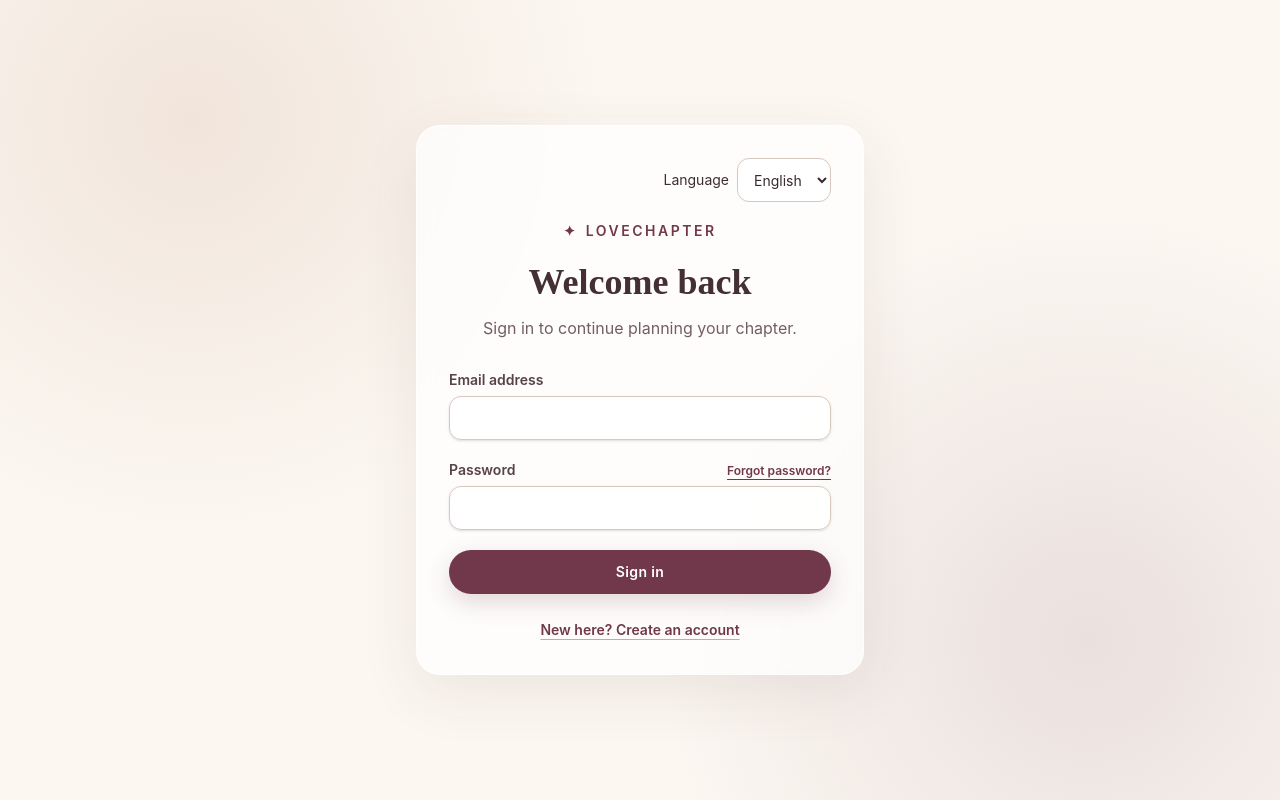
Test: SignInForm › renders stable invalid-credentials feedback
Step 1. Type "c@example.test" into the field labelled "Email address" → (640, 418), box 449,396 -> 831,440
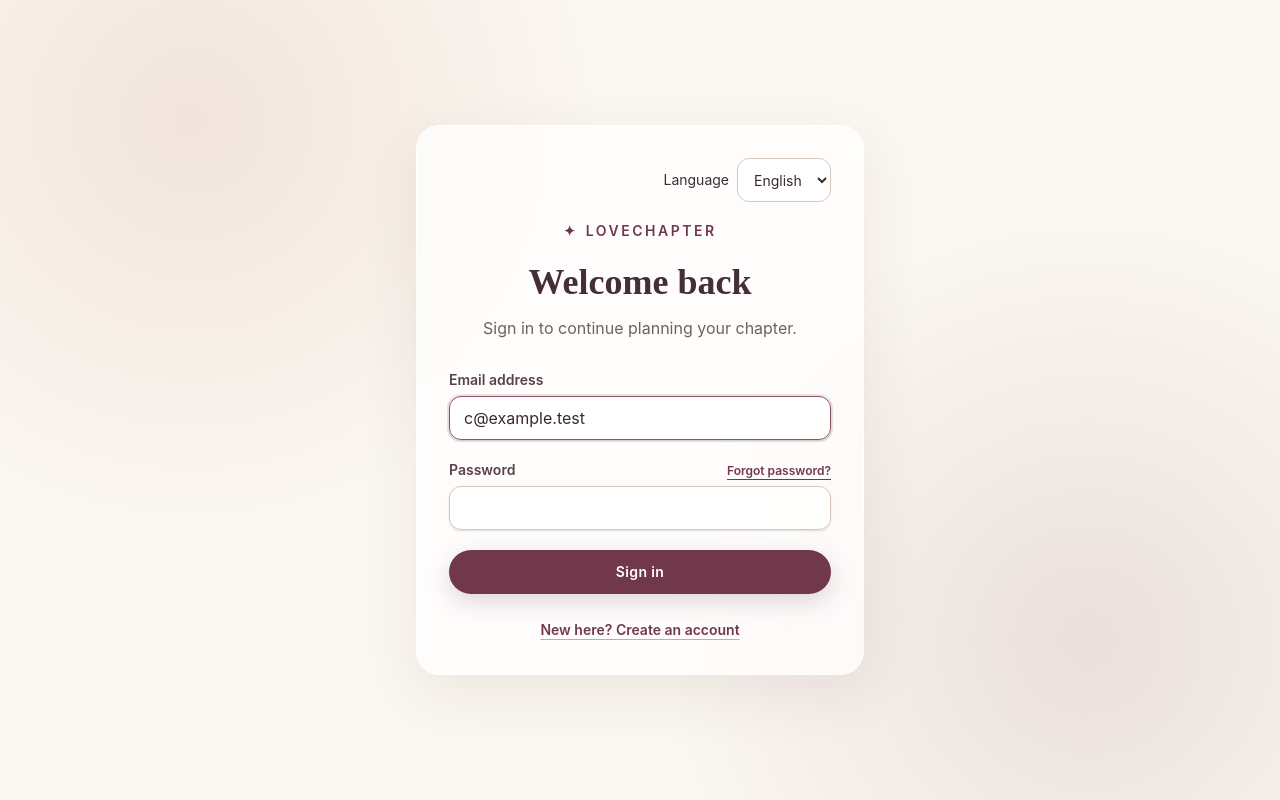
Step 2. Type "wrong password phrase" into the password field labelled "Password" → (640, 508), box 449,486 -> 831,530
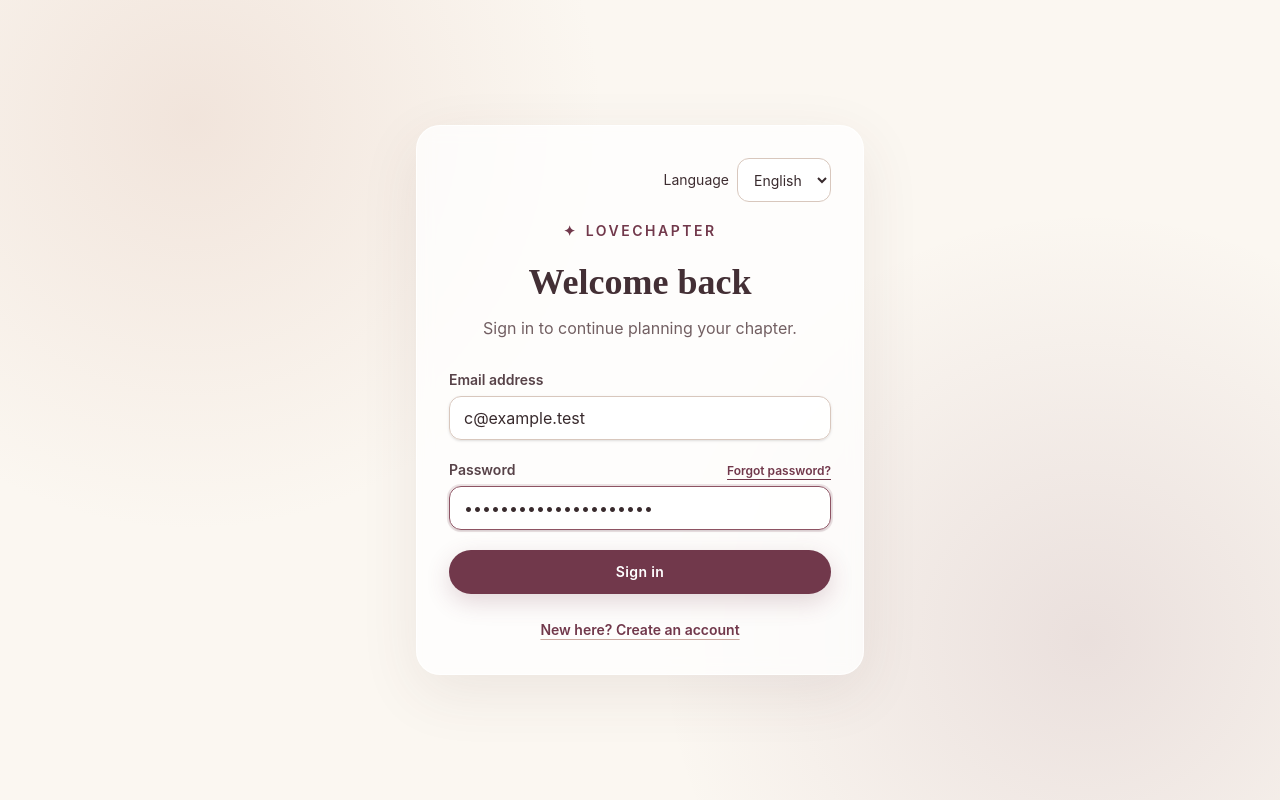
Step 3. Click the button "Sign in" → (640, 572), box 449,550 -> 831,594
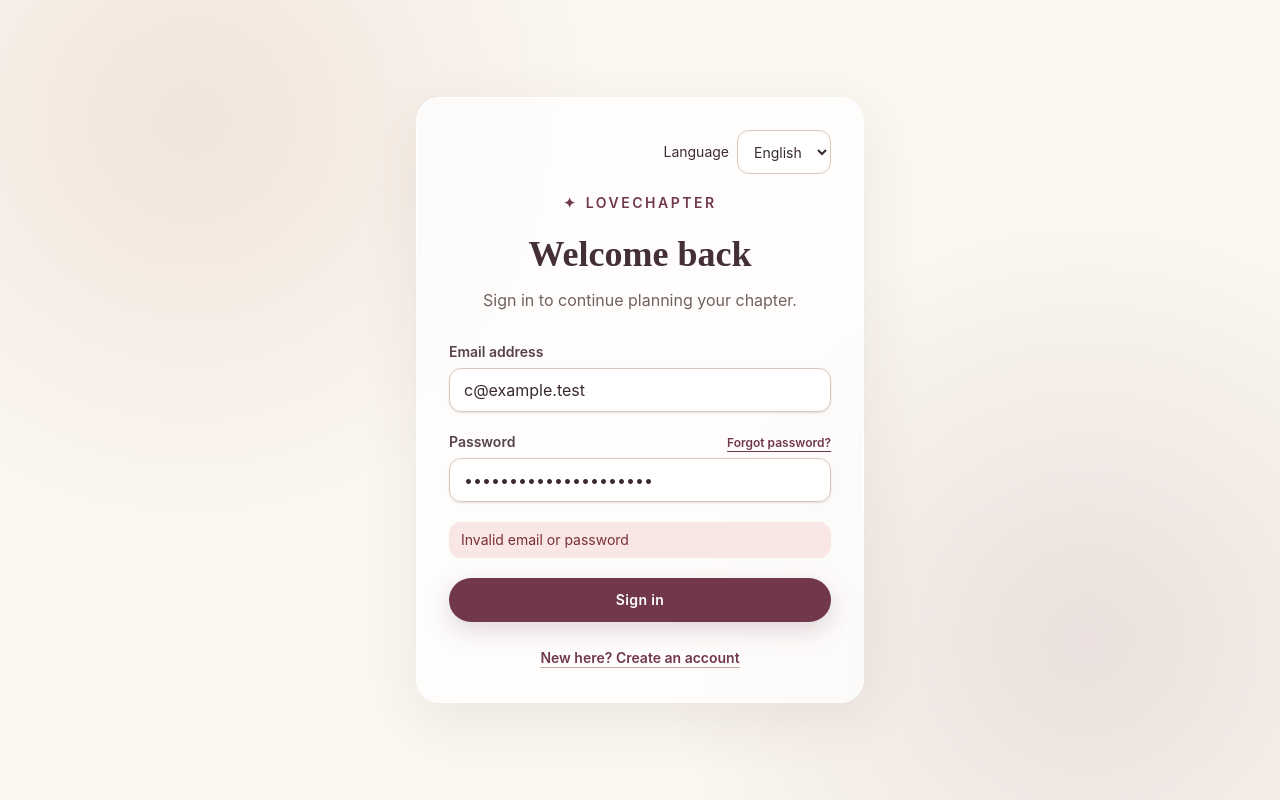
expect the text "Invalid email or password" is shown: met, box 449,522 -> 831,558
